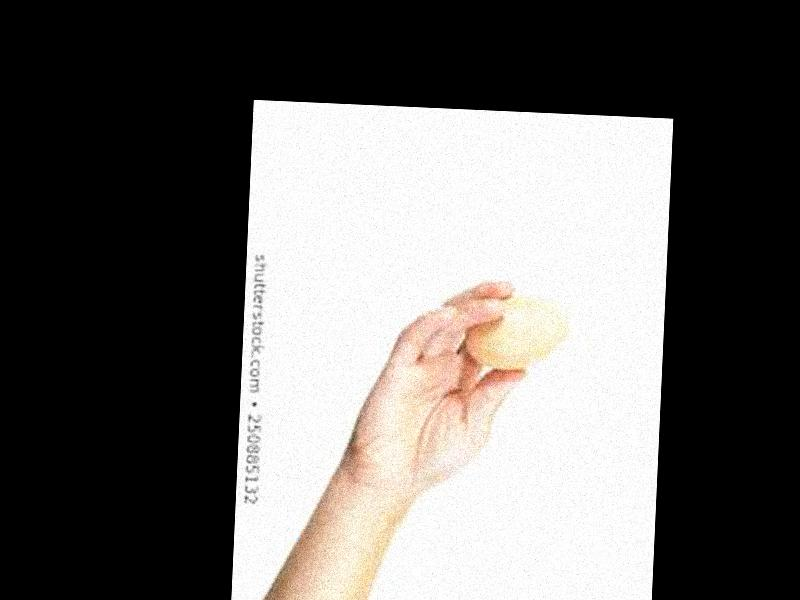Eggs: (460, 293, 571, 372)
